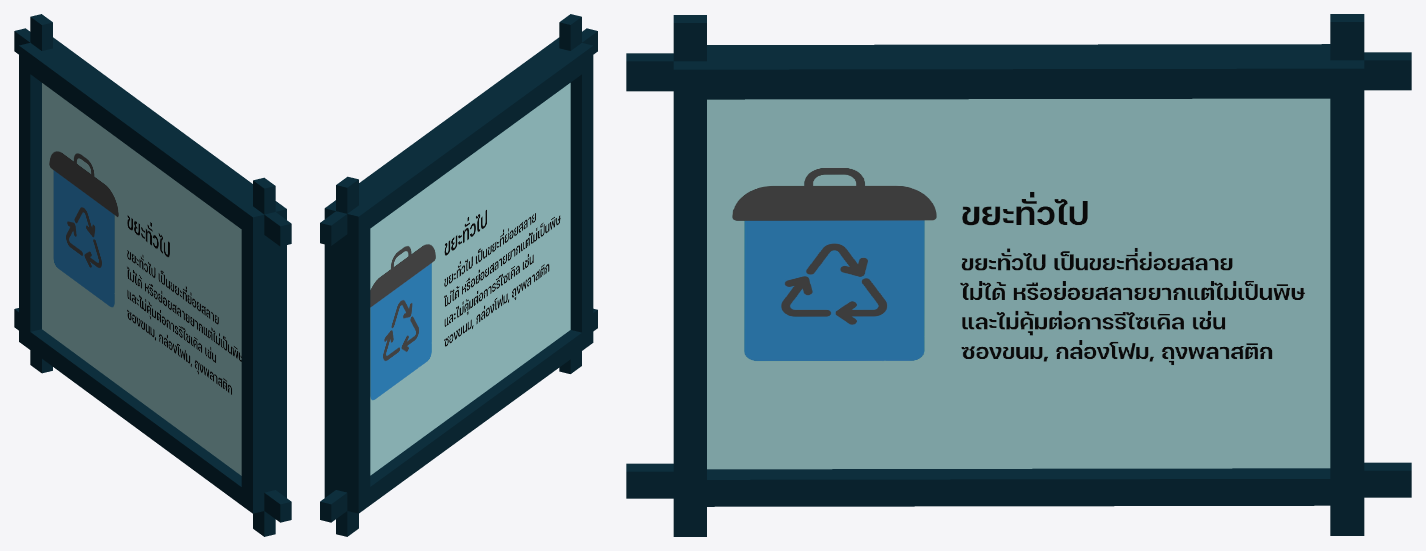
Rendered from 03_Content_Blue.fbx.
3 renders of one model, left to right at view 1: azimuth 30°, elevation 25°; view 2: azimuth 150°, elevation 25°; view 3: azimuth 270°, elevation 25°, orthographic. The views are drawn at different scales.
Visible parts, largest first — view 1: sign_info2; view 2: sign_info2; view 3: sign_info2.
Part boxes in pixels (bbox=[...]): sign_info2: bbox=[14, 14, 291, 536]; sign_info2: bbox=[320, 14, 597, 536]; sign_info2: bbox=[626, 14, 1411, 536].
Size of the model in its own units: 0.7015 by 6.86 by 9.49.
3 materials, 2 textured.
